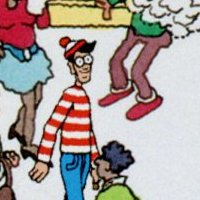waldo: (64, 35, 95, 87)
